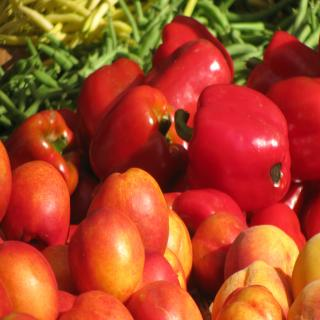Apple: (0, 136, 320, 320), (64, 202, 143, 302)
Bell pepper: (4, 13, 320, 212)
Tomato: (0, 138, 320, 320)
